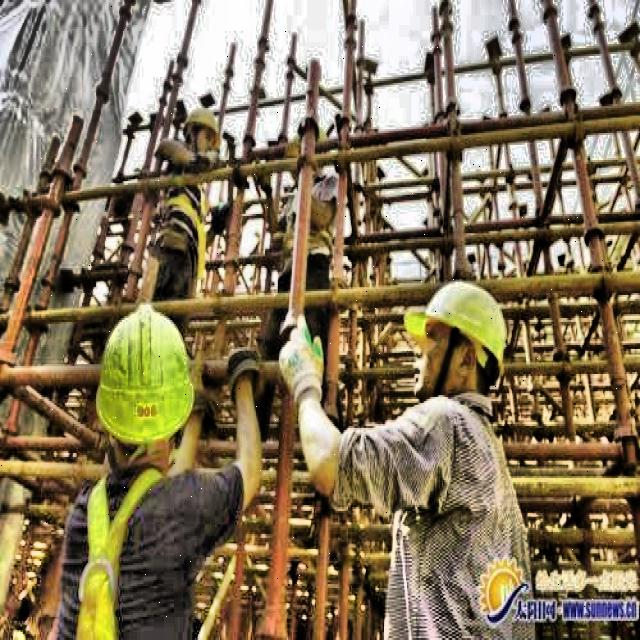helmet: (92, 306, 200, 458), (403, 282, 507, 408), (283, 127, 333, 187), (180, 102, 222, 162)
